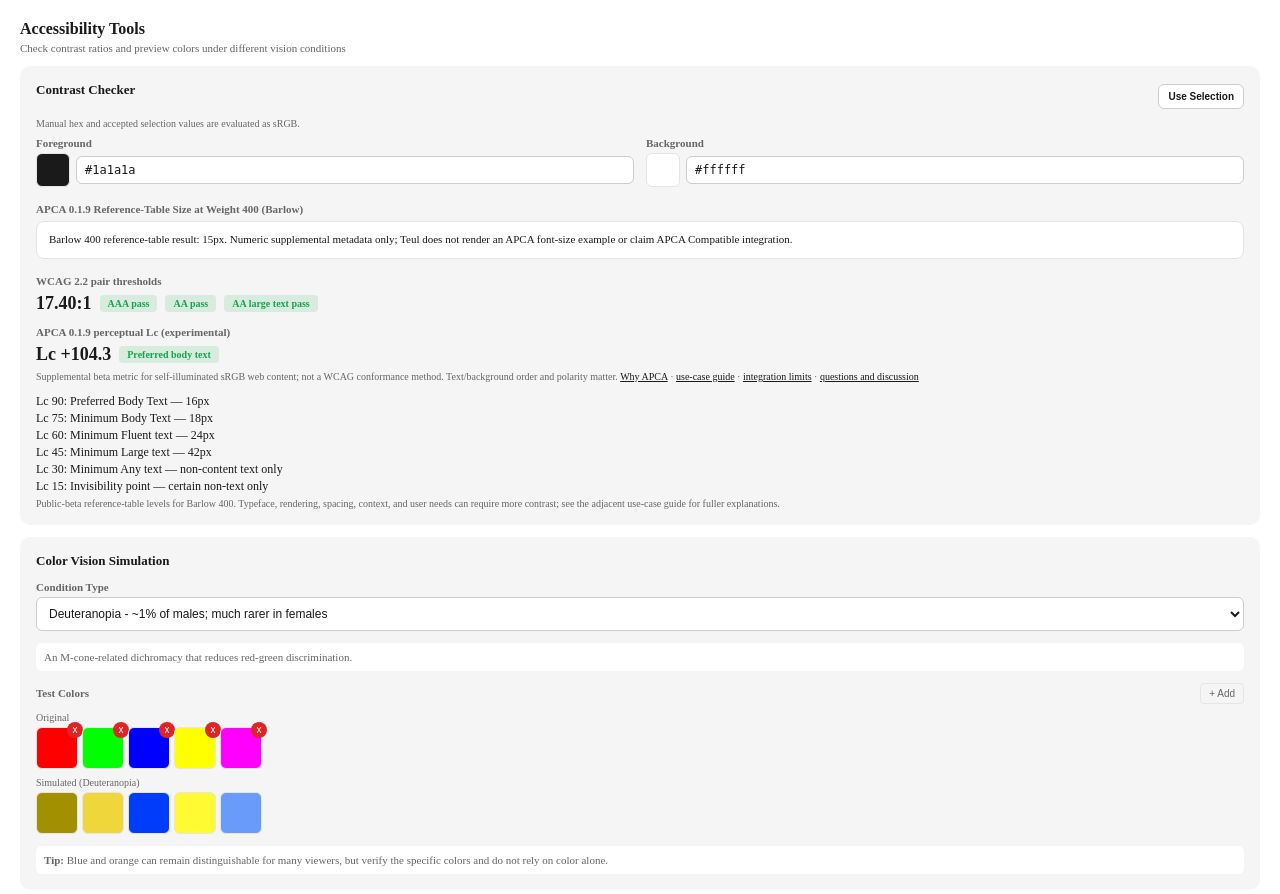
Scenario: AccessibilityTab › leaves the existing sRGB result unchanged when selection profile preflight fails
Click the button "Use Selection" at (1201, 96), box [1158,84,1244,108]
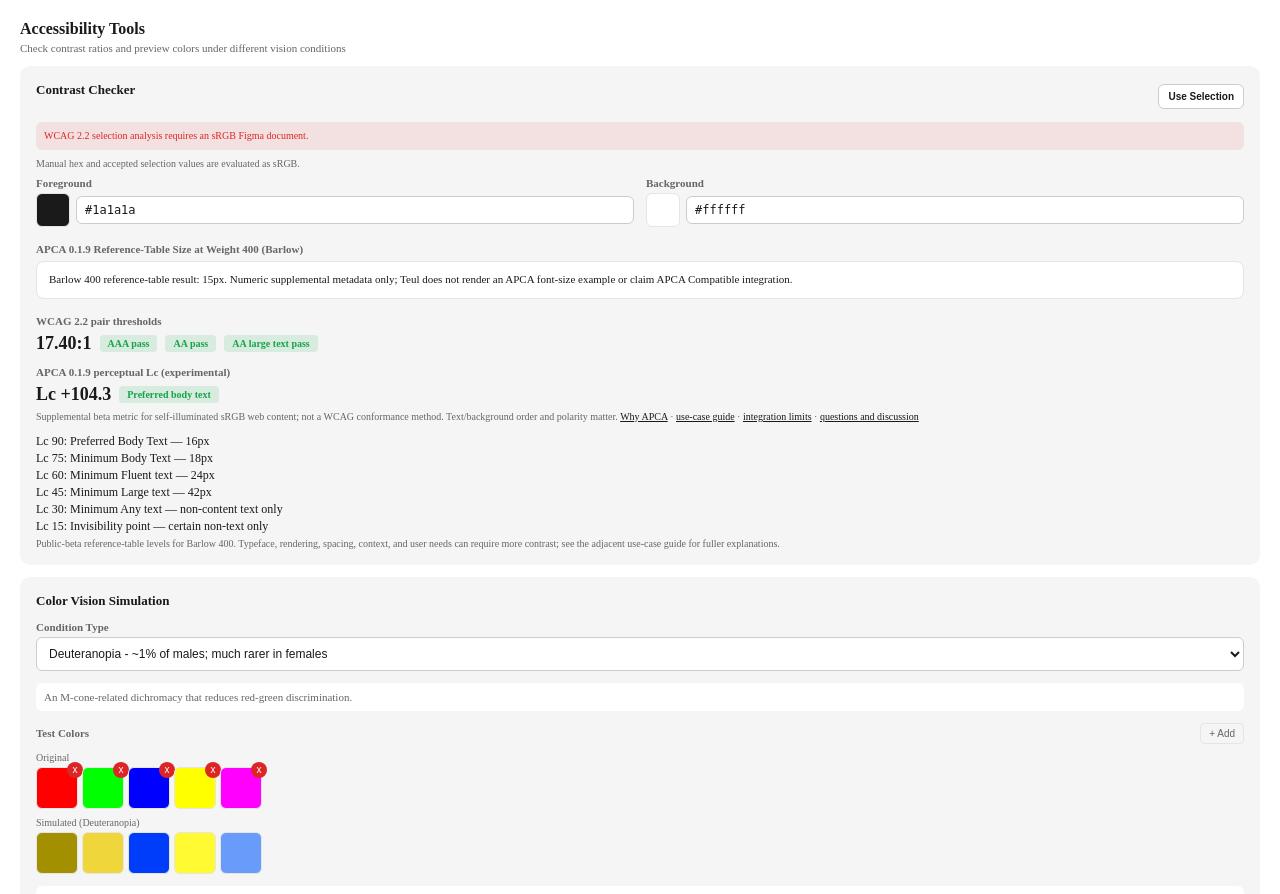
Check: the message "WCAG 2.2 selection analysis requires an sRGB Figma document." is shown, box [36,122,1244,150]
